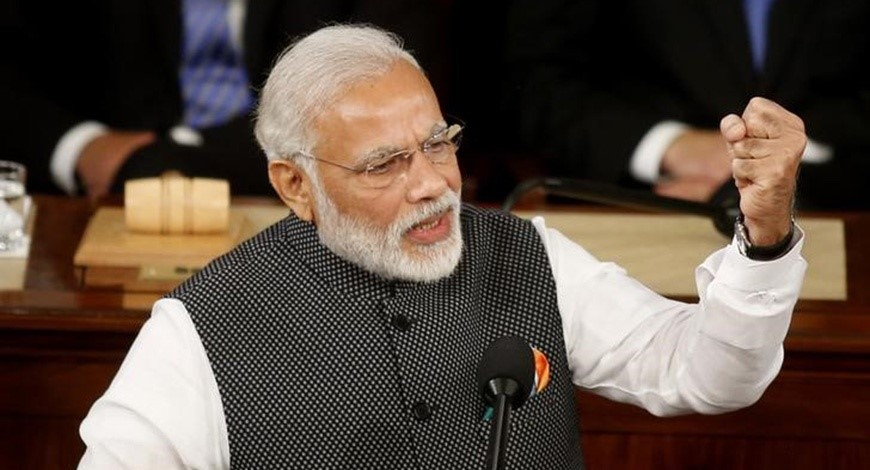face_no_mask: (270, 33, 473, 289)
